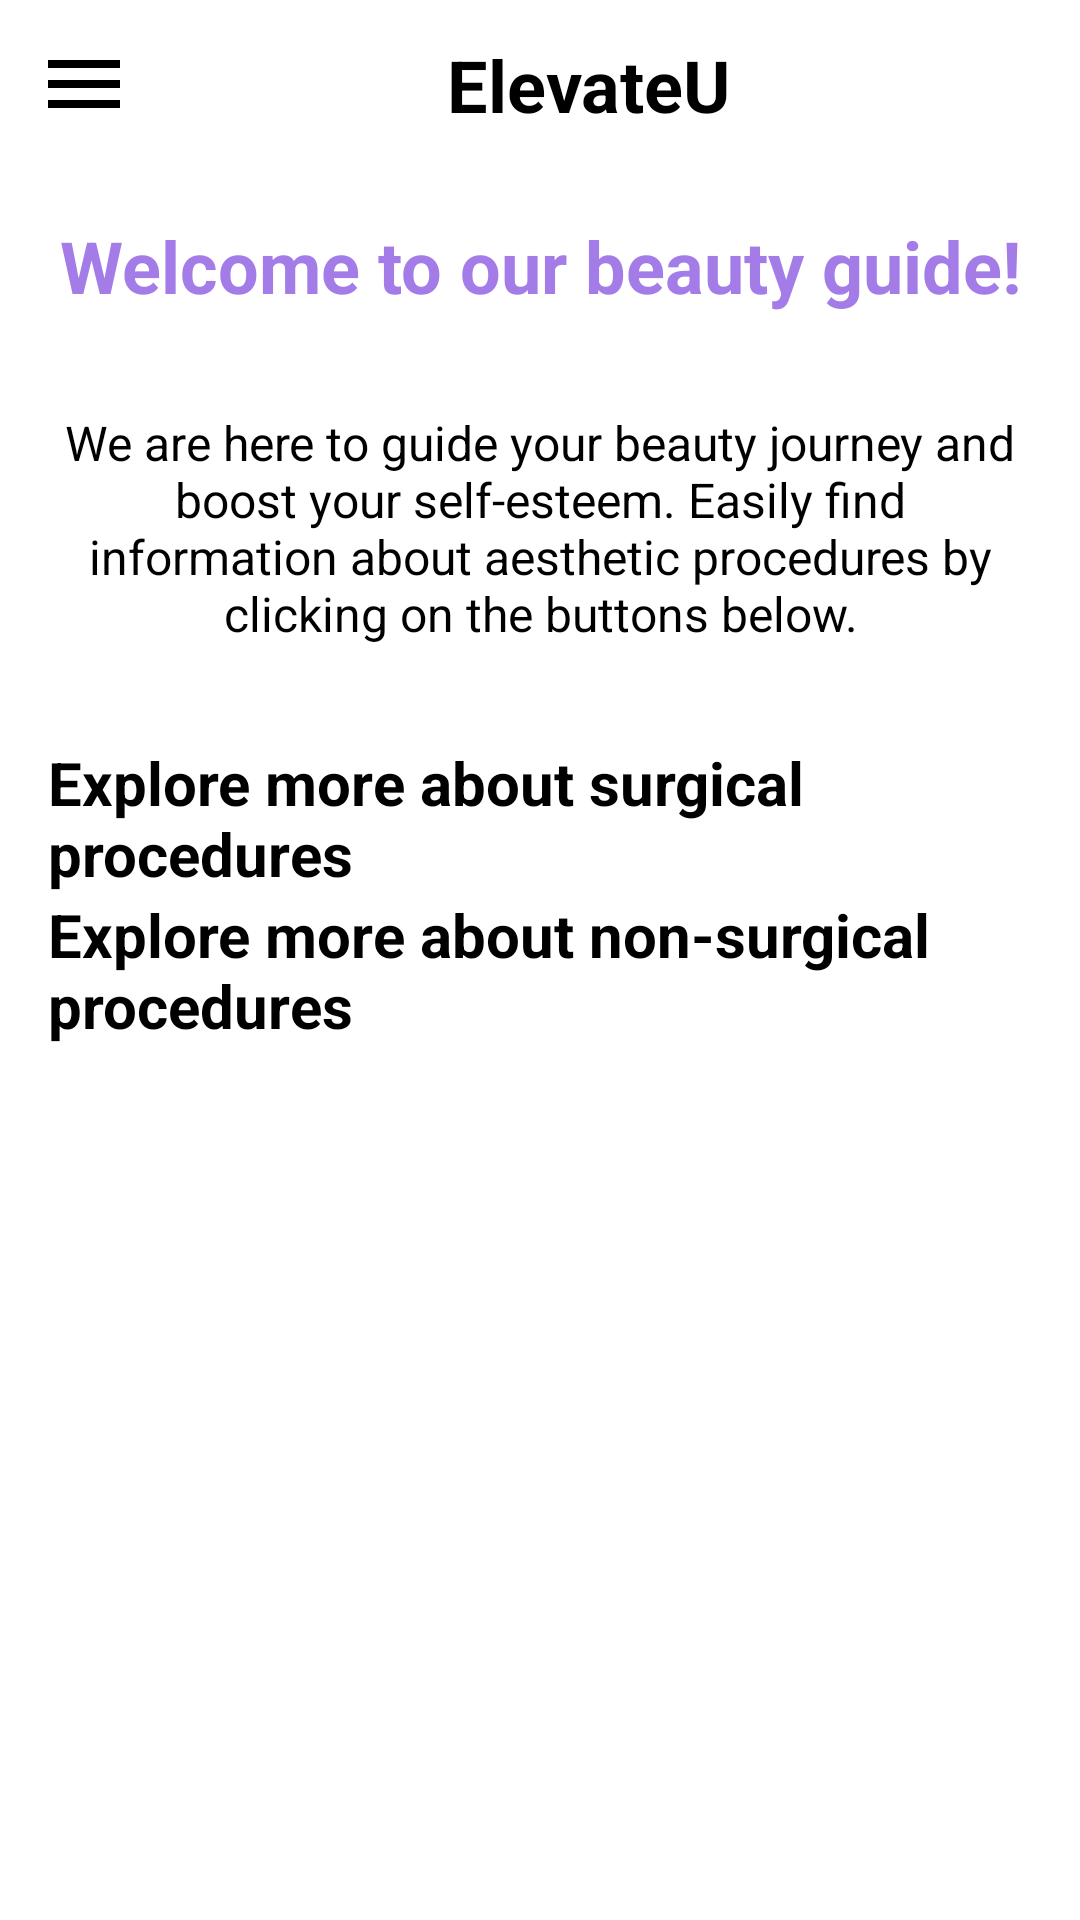

Screen size 1080×1920. Icon name, then its center in pixels as [x,y]:
menu: [84,84]
